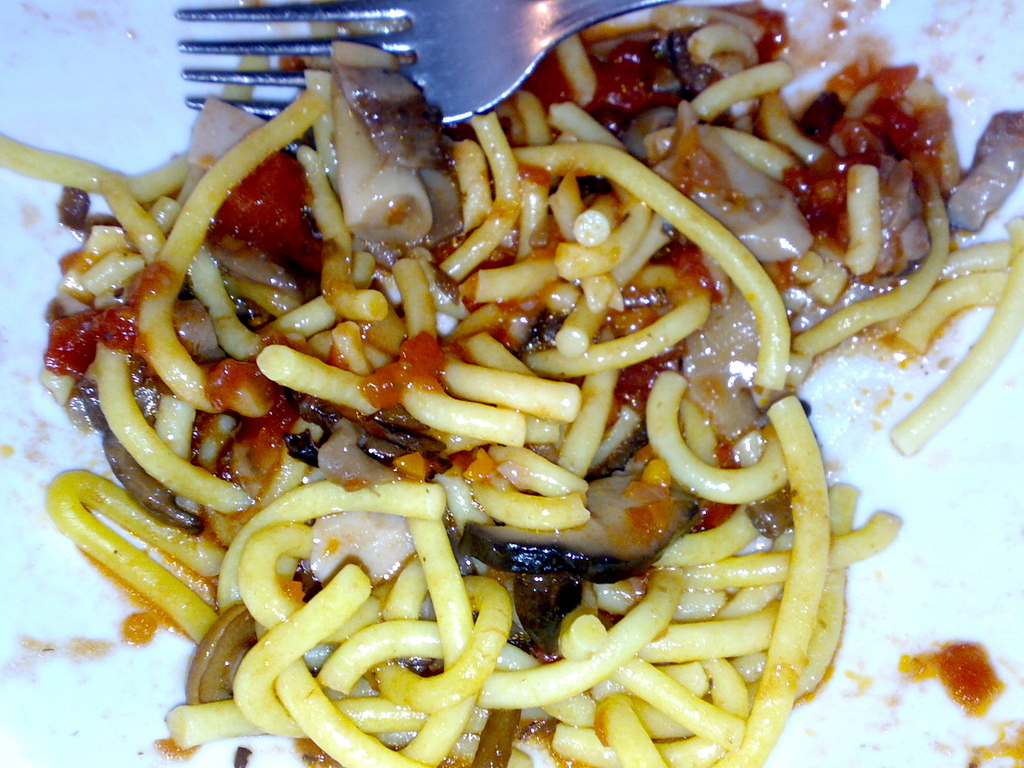pasta: (0, 47, 1023, 767)
